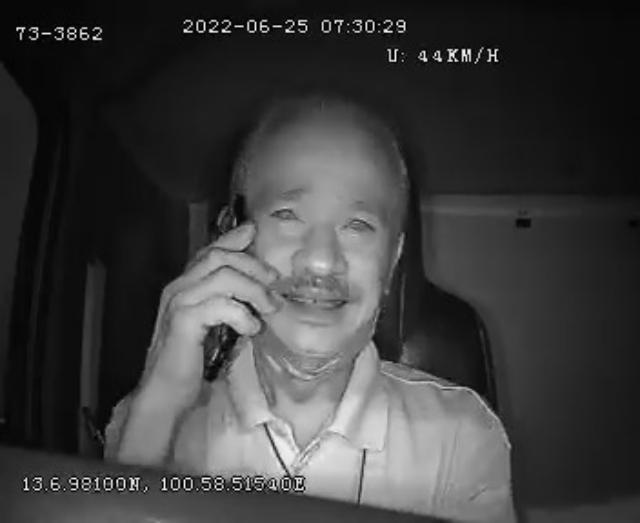PhoneUse: (200, 194, 253, 378)
SafeDriving: (332, 202, 384, 244), (260, 194, 310, 228)
